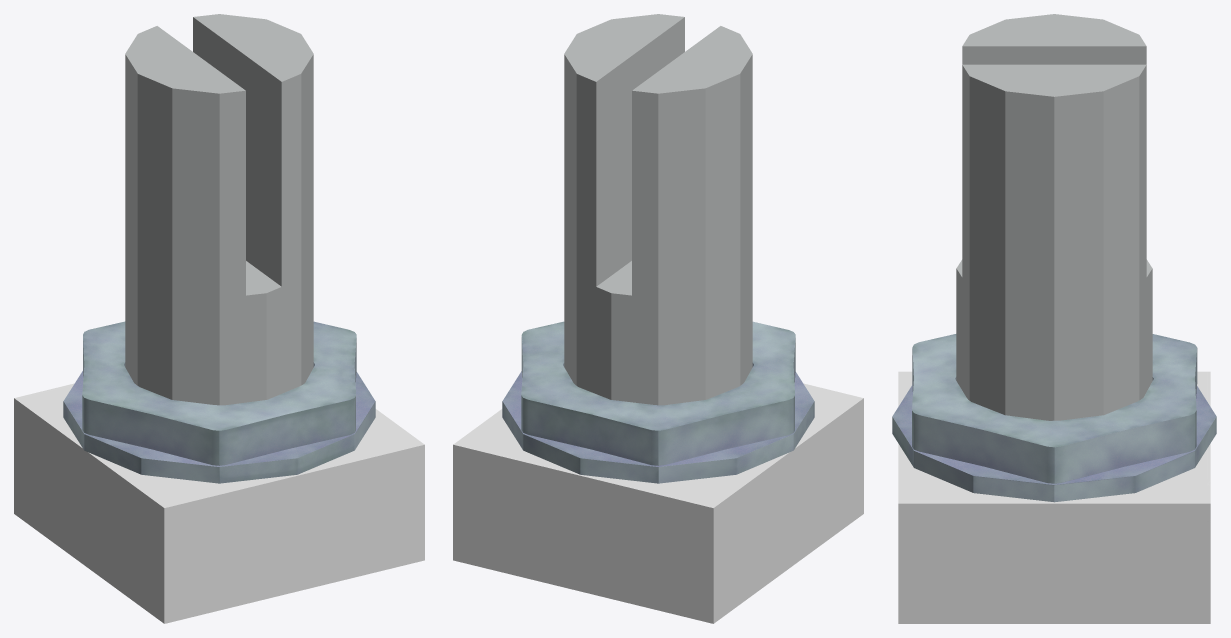
Rendered from booster.fbx.
The picture shows the model from 3 angles, left to right: view 1: azimuth 30°, elevation 25°; view 2: azimuth 150°, elevation 25°; view 3: azimuth 270°, elevation 25°; orthographic projection. The views are drawn at different scales.
Parts seen in each view (by area): view 1: pCube2; view 2: pCube2; view 3: pCube2.
Boxes of the visible parts, x1,y1,x2,y2 form: pCube2: [14, 14, 424, 623]; pCube2: [453, 14, 863, 623]; pCube2: [892, 14, 1216, 623].
Size of the model in its own units: 2 by 3.42 by 2.
3 materials, 3 textured.
